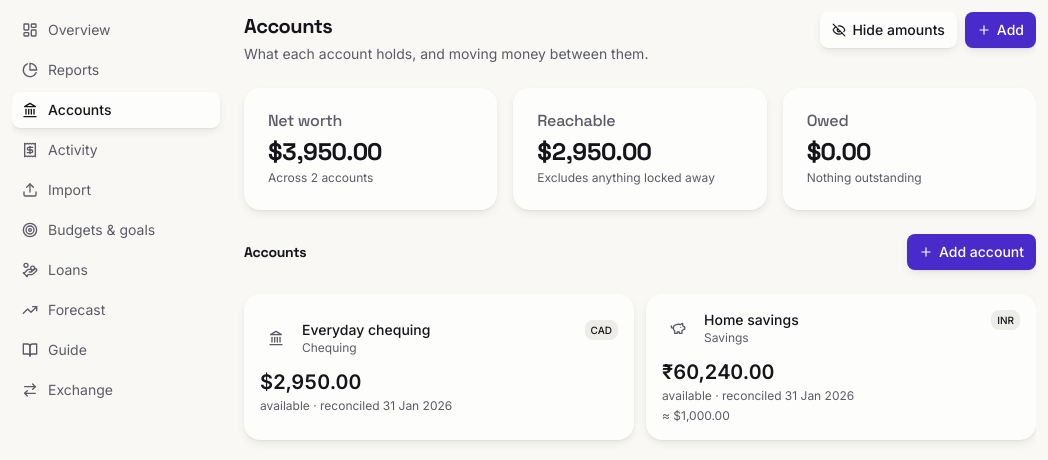
Scenario: the finance workspace › renders Reports with no placeholder
Click the button "Reports". click: (116, 70)
box: [12, 52, 220, 88]
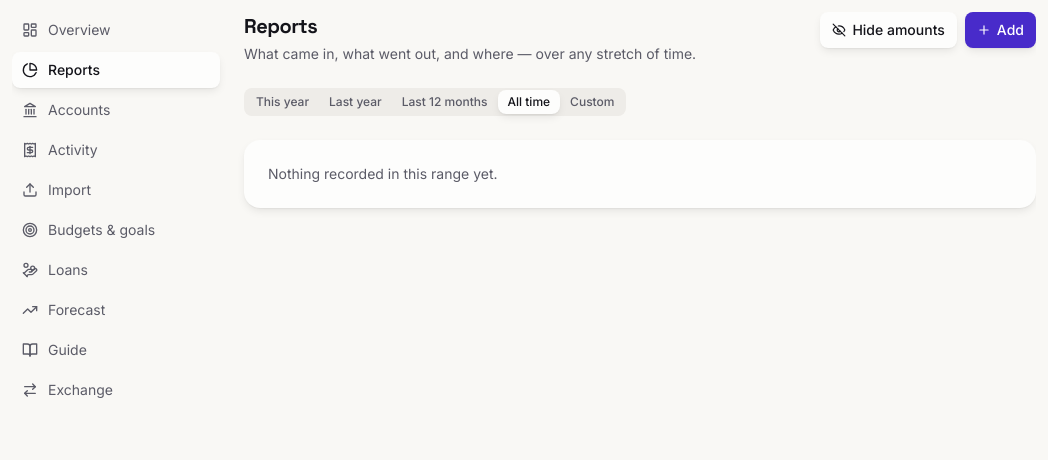
Result: the heading "Reports" is shown at [244, 13, 317, 39]
